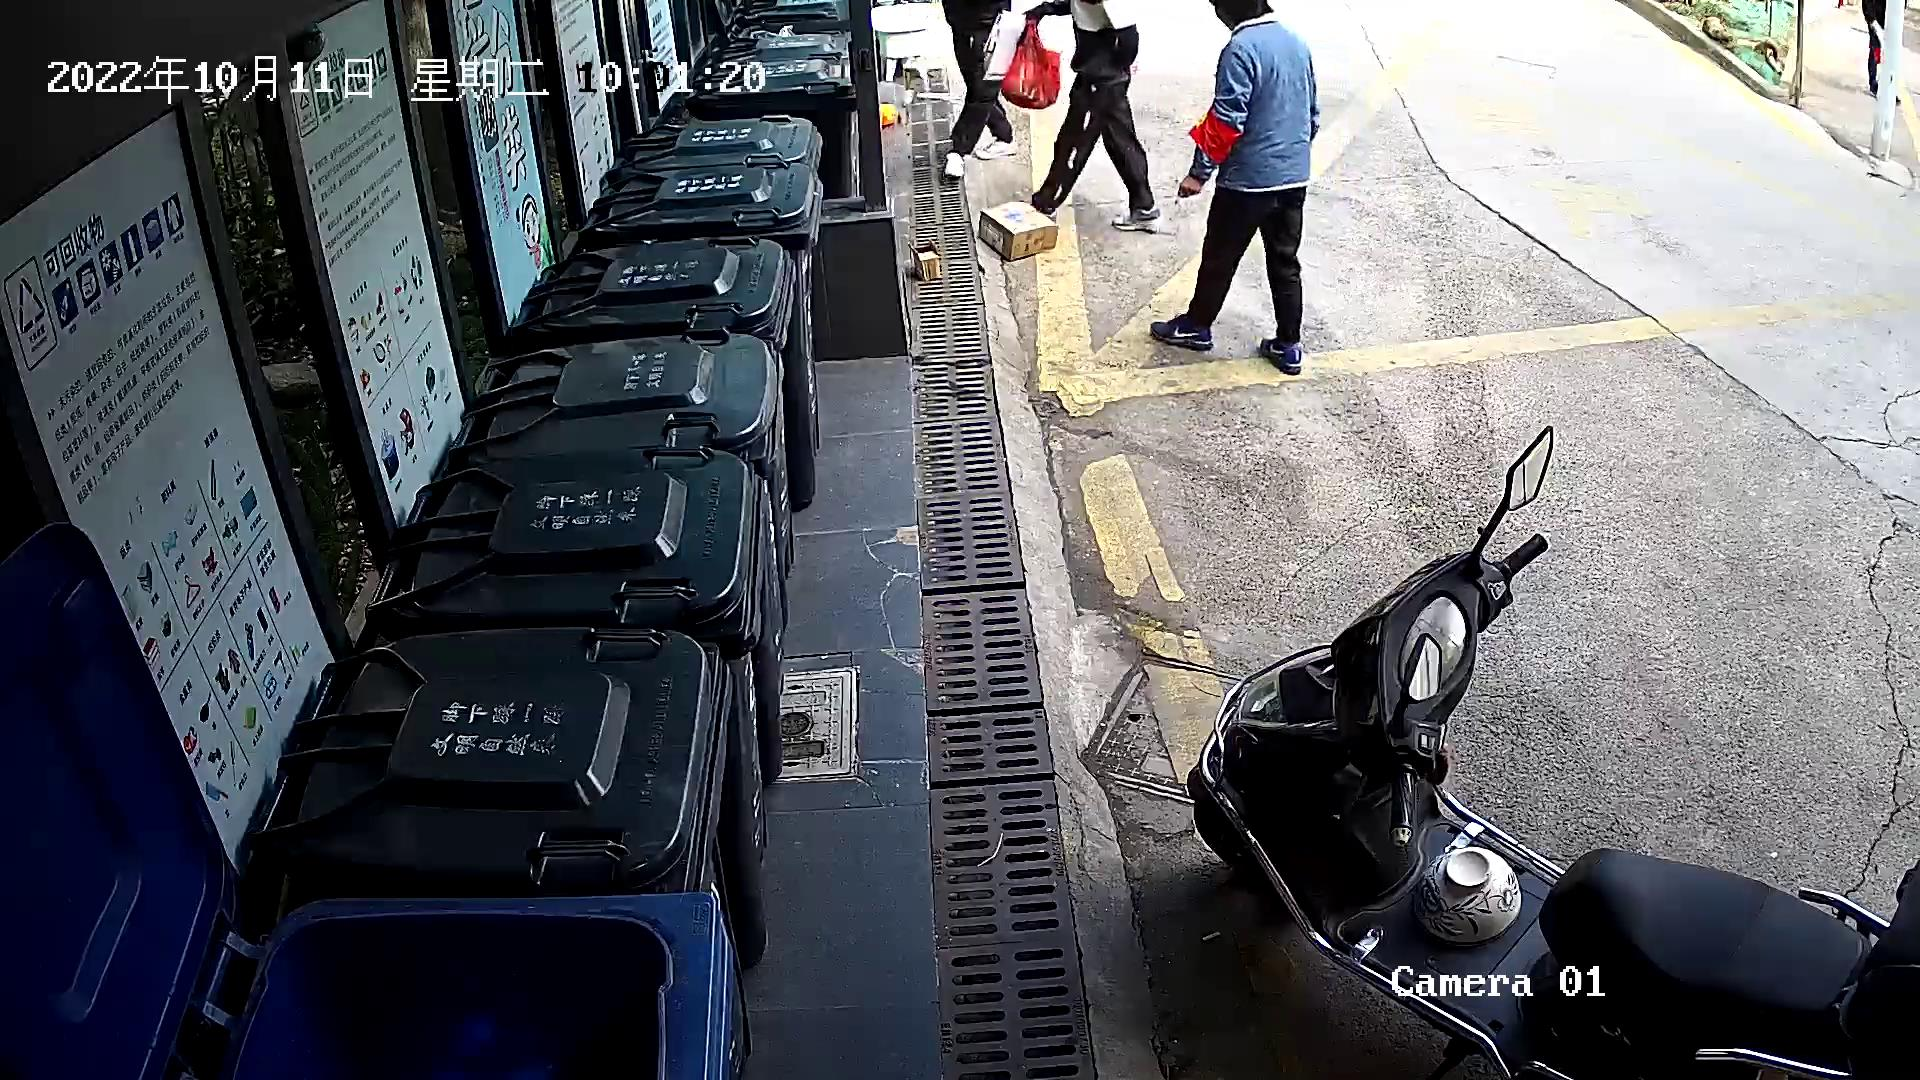garbage-bag: (996, 17, 1067, 107)
worker: (1145, 1, 1323, 382)
zhizhipin: (972, 195, 1063, 262), (905, 233, 948, 287)
